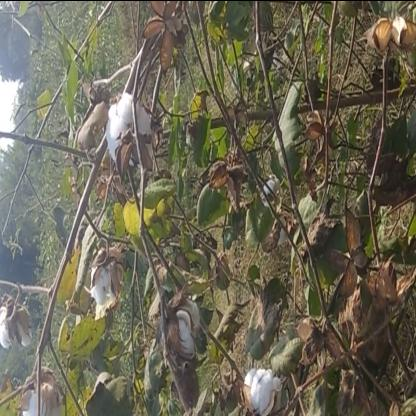cotton_ready: (86, 233, 130, 310), (156, 282, 198, 350), (104, 96, 147, 162), (242, 364, 282, 416), (0, 294, 35, 346)
